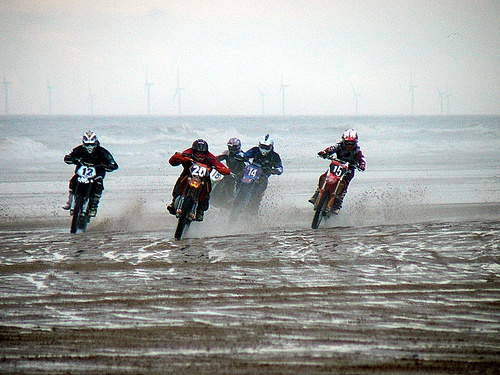non-vehicle: (169, 152, 230, 239), (310, 151, 364, 228), (65, 157, 113, 234), (230, 151, 278, 220), (209, 160, 234, 201)
